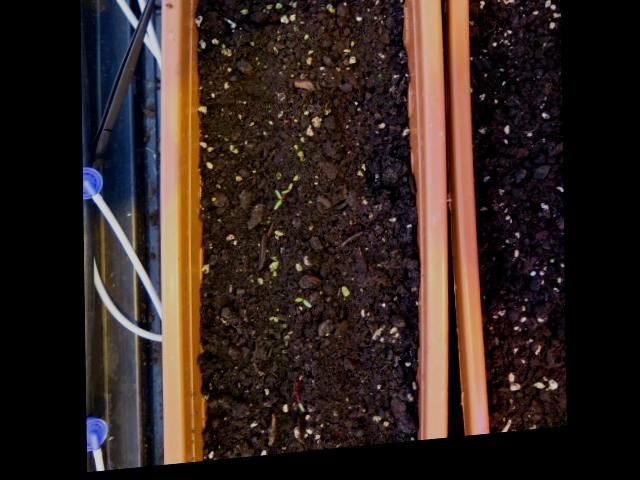crop: (291, 300, 311, 319)
